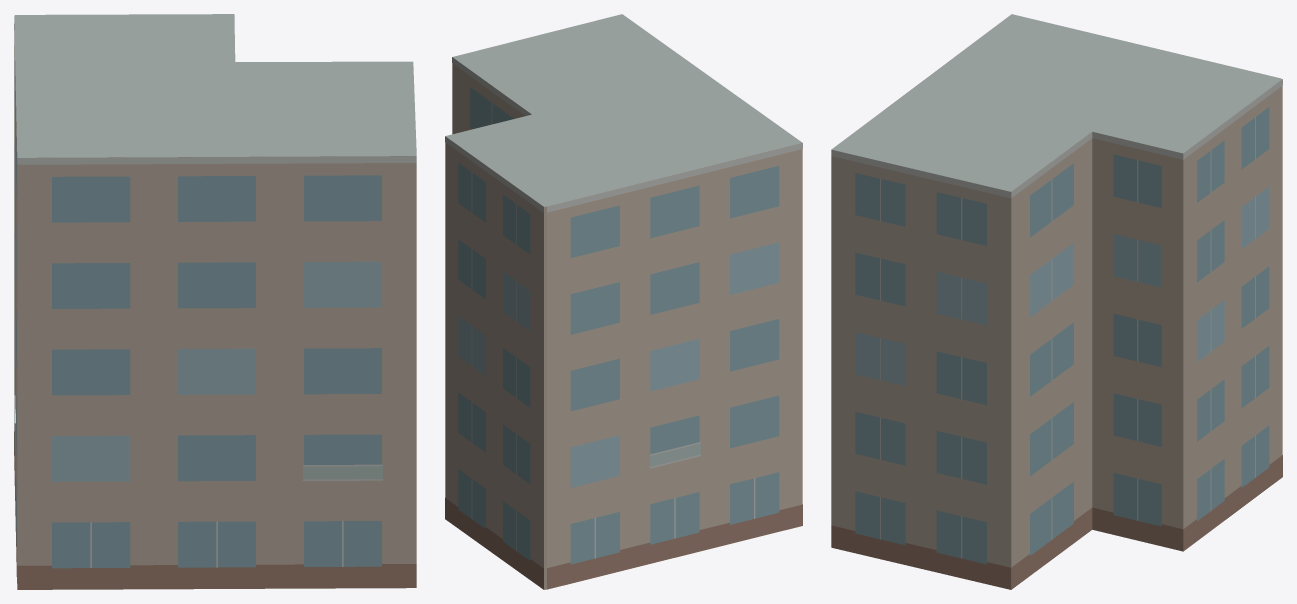
File: survey-upis-32728721.glb
The picture shows the model from 3 angles, left to right: view 1: azimuth 30°, elevation 25°; view 2: azimuth 150°, elevation 25°; view 3: azimuth 270°, elevation 25°; orthographic projection. The views are drawn at different scales.
Visible parts, largest first — view 1: survey-upis-32728721.tmp; view 2: survey-upis-32728721.tmp; view 3: survey-upis-32728721.tmp.
Part boxes in pixels (bbox=[...]): survey-upis-32728721.tmp: bbox=[14, 14, 416, 589]; survey-upis-32728721.tmp: bbox=[445, 14, 802, 589]; survey-upis-32728721.tmp: bbox=[831, 14, 1282, 589].
Size of the model in its own units: 14.63 by 15.25 by 15.69.
